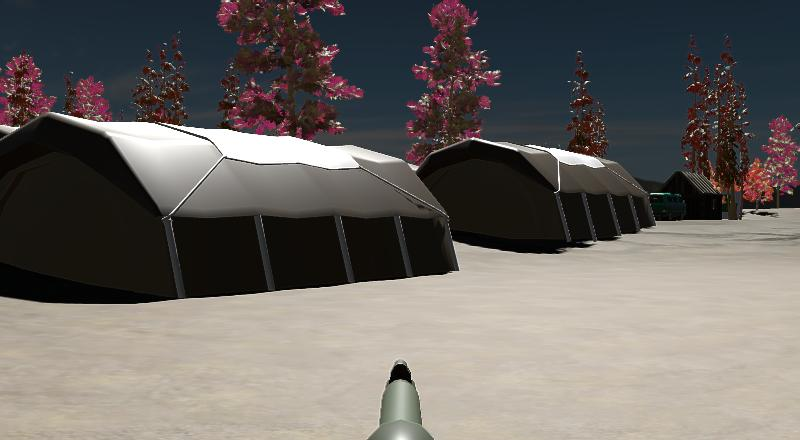House: (660, 164, 730, 224)
car: (641, 188, 691, 225)
